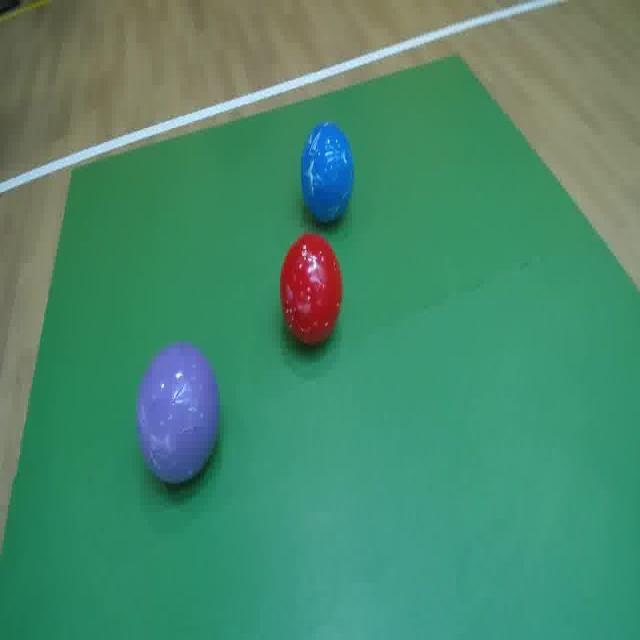blue_ball: (284, 107, 372, 227)
purple_ball: (119, 318, 225, 494)
red_ball: (270, 216, 348, 362)
